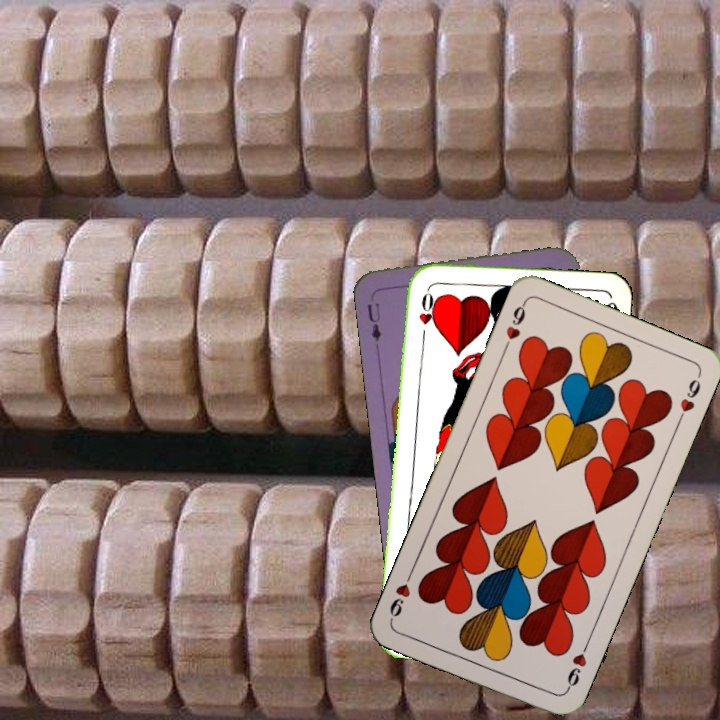EU: (363, 299, 384, 344)
H9: (499, 297, 529, 354), (562, 638, 592, 695)
HO: (415, 284, 436, 344)
